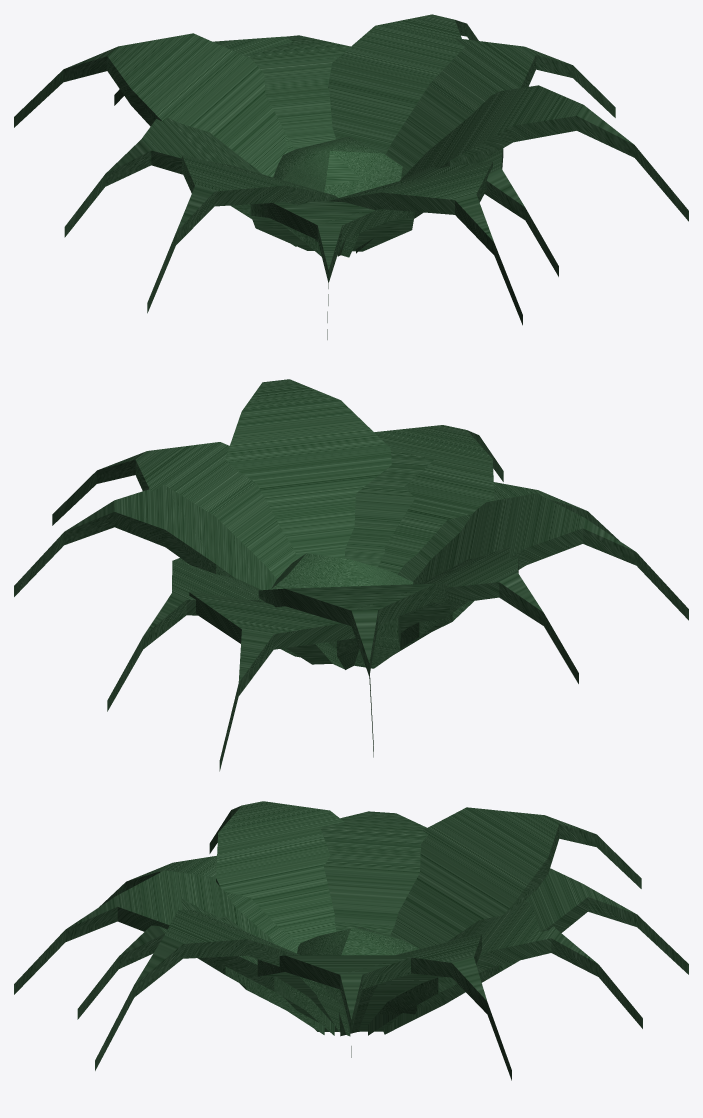
File: fern_2.glb
3 views of the same model, one above another, from view 1: azimuth 30°, elevation 25°; view 2: azimuth 150°, elevation 25°; view 3: azimuth 270°, elevation 25° (orthographic). The views are drawn at different scales.
Parts seen in each view (by area): view 1: fern_2; view 2: fern_2; view 3: fern_2.
Boxes of the visible parts, bbox=[...] form: fern_2: bbox=[14, 14, 688, 339]; fern_2: bbox=[14, 379, 688, 771]; fern_2: bbox=[14, 801, 688, 1080].
Size of the model in its own units: 1.78 by 0.492 by 1.94.
Materials: 1 (1 with a texture image).
